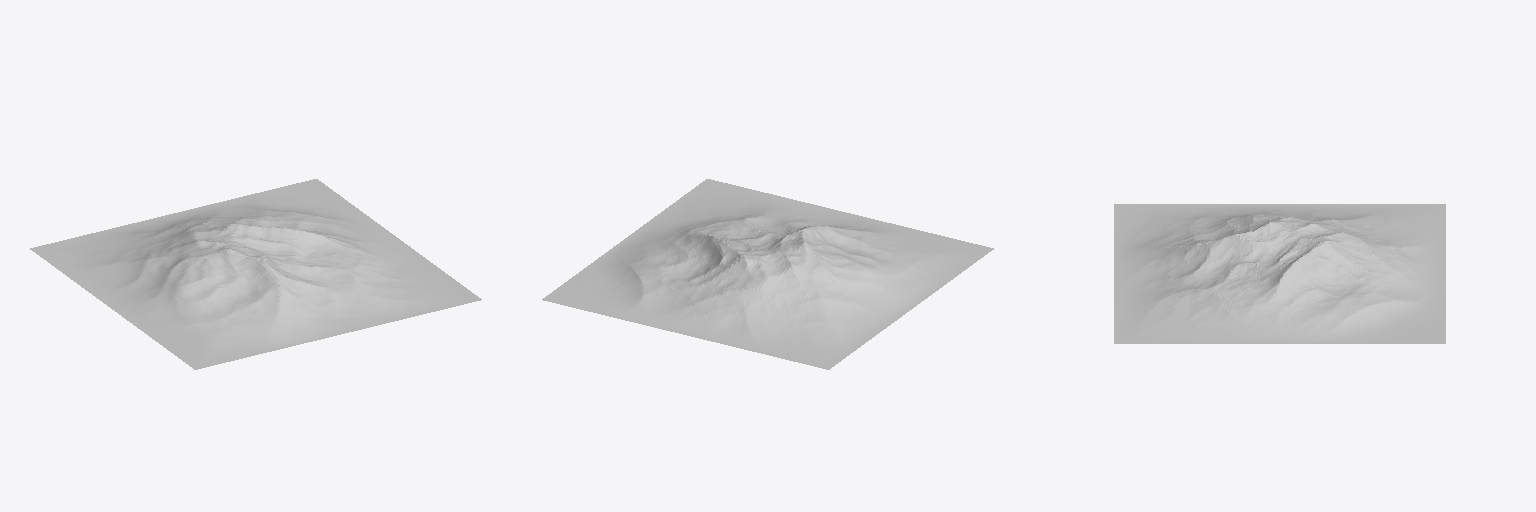
File: area.obj
3 renders of one model, left to right at view 1: azimuth 30°, elevation 25°; view 2: azimuth 150°, elevation 25°; view 3: azimuth 270°, elevation 25°, orthographic.
Parts seen in each view (by area): view 1: Landschaft; view 2: Landschaft; view 3: Landschaft.
Boxes of the visible parts, x1=… form: Landschaft: x1=30, y1=179, x2=481, y2=369; Landschaft: x1=542, y1=179, x2=993, y2=369; Landschaft: x1=1114, y1=204, x2=1445, y2=343.
Size of the model in its own units: 2414 by 294 by 2414.